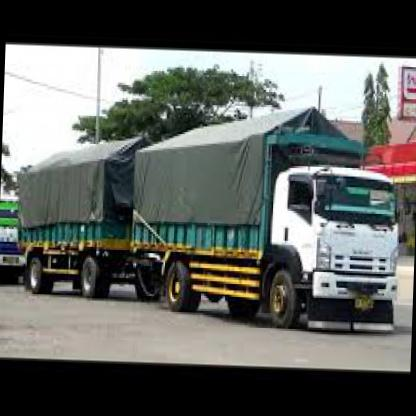truck: (265, 165, 405, 340)
